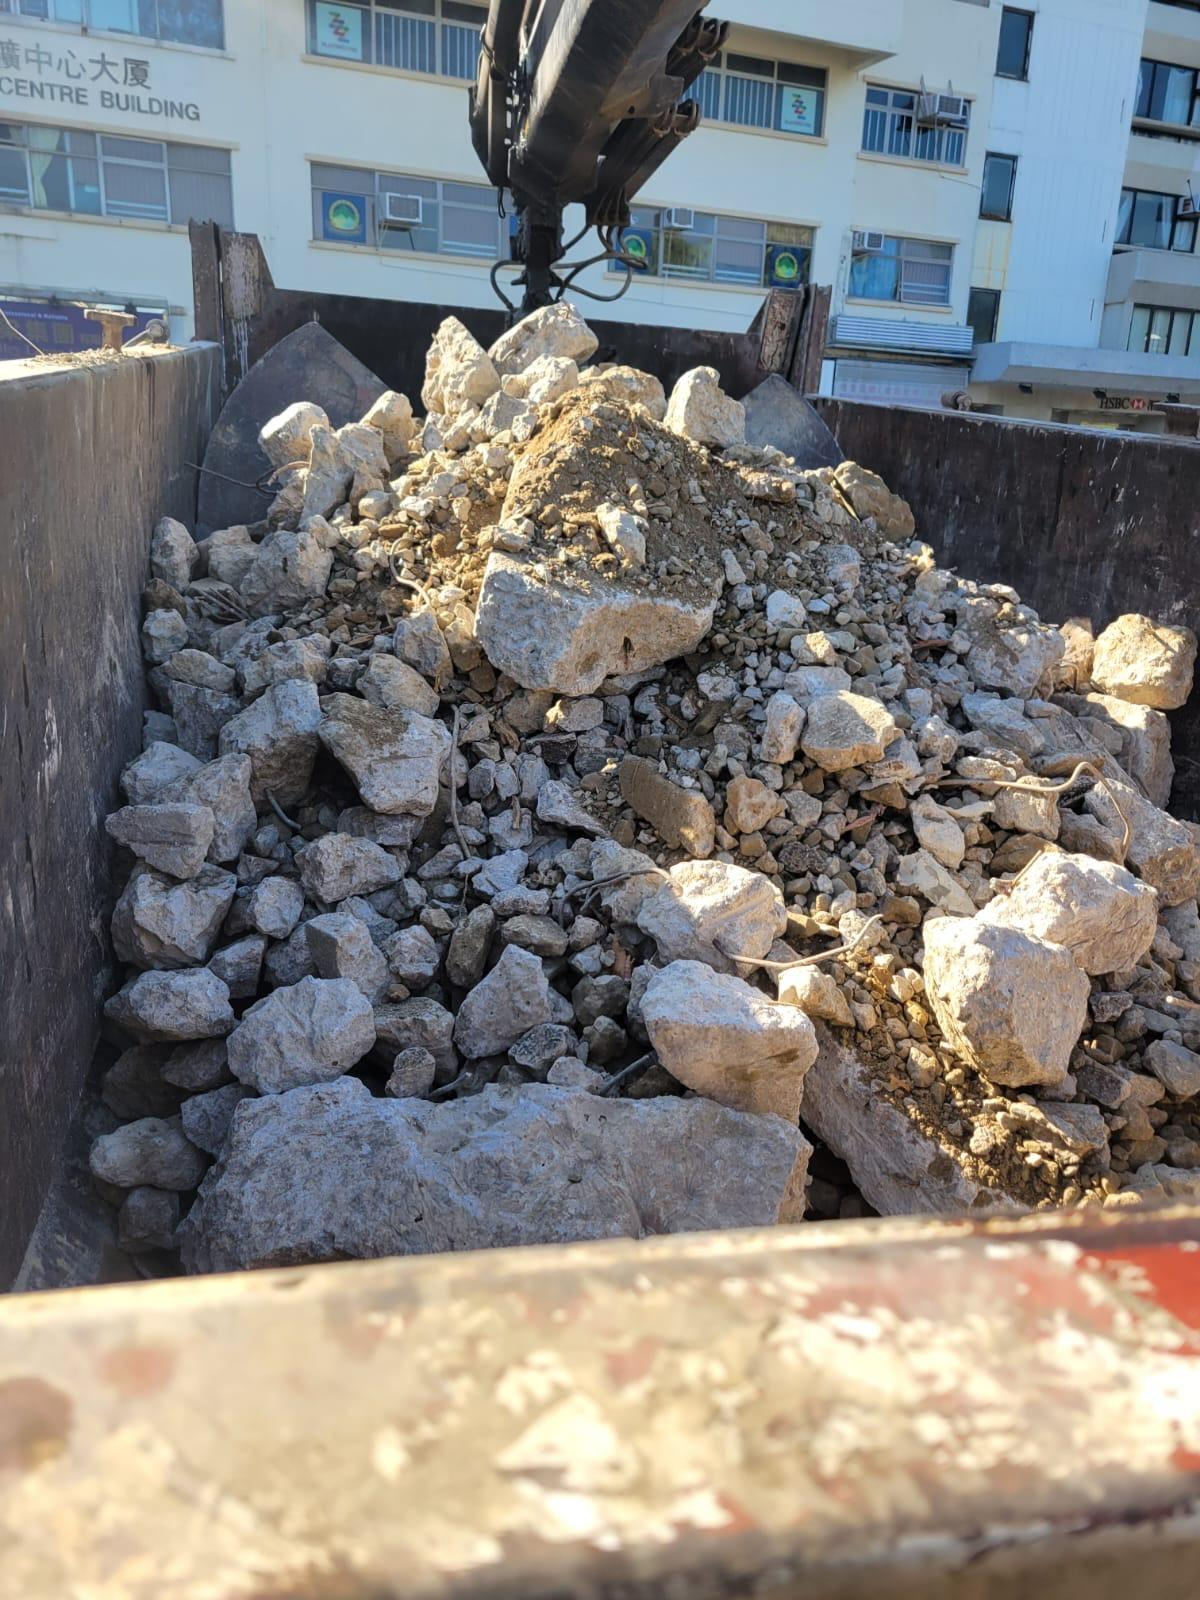stone: (54, 301, 1197, 1277), (471, 394, 726, 695), (638, 956, 819, 1124), (920, 912, 1092, 1086), (987, 845, 1158, 976), (799, 689, 899, 770)
